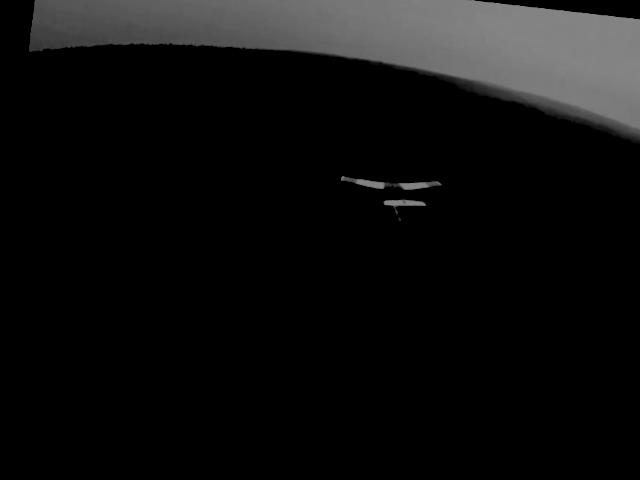hedef: (321, 161, 445, 233)
